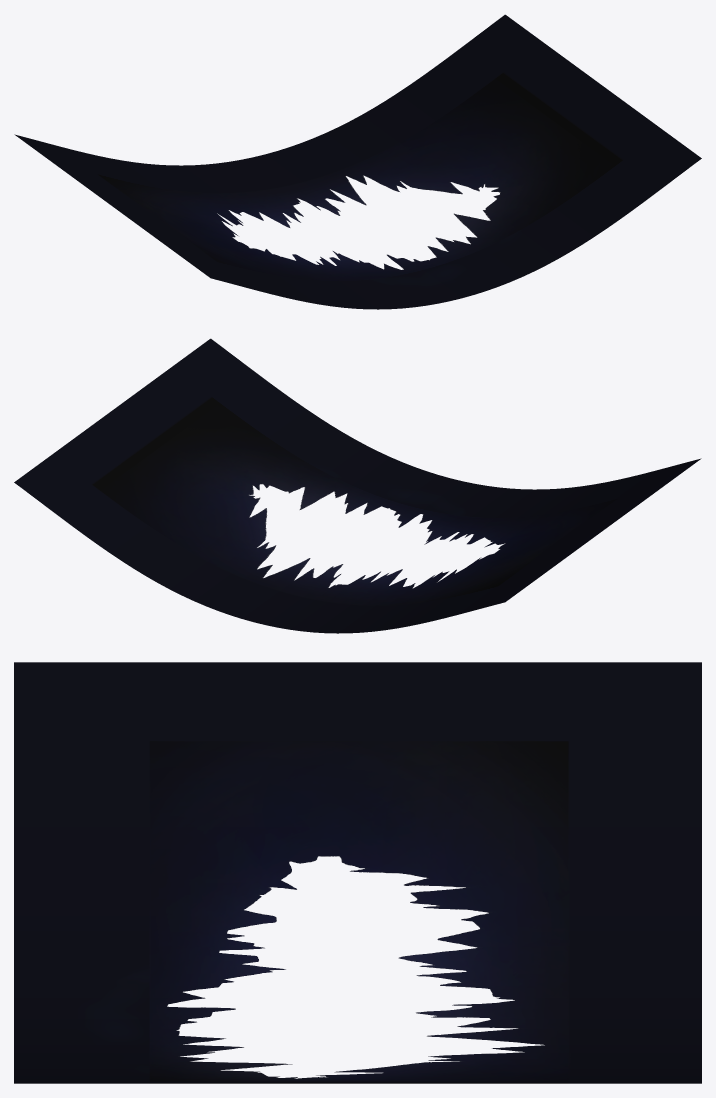
The model's file is 樹洞遮罩3.fbx.
The picture shows the model from 3 angles, top to bottom: view 1: azimuth 30°, elevation 25°; view 2: azimuth 150°, elevation 25°; view 3: azimuth 270°, elevation 25°; orthographic projection. The views are drawn at different scales.
Visible parts, largest first — view 1: 樹洞遮罩3; view 2: 樹洞遮罩3; view 3: 樹洞遮罩3.
Boxes of the visible parts, x1,y1,x2,y2 form: 樹洞遮罩3: [14, 14, 701, 309]; 樹洞遮罩3: [14, 338, 701, 633]; 樹洞遮罩3: [14, 662, 701, 1083].
Bounding box in the file's own units: 144 × 22.81 × 100.
1 material, 1 textured.
